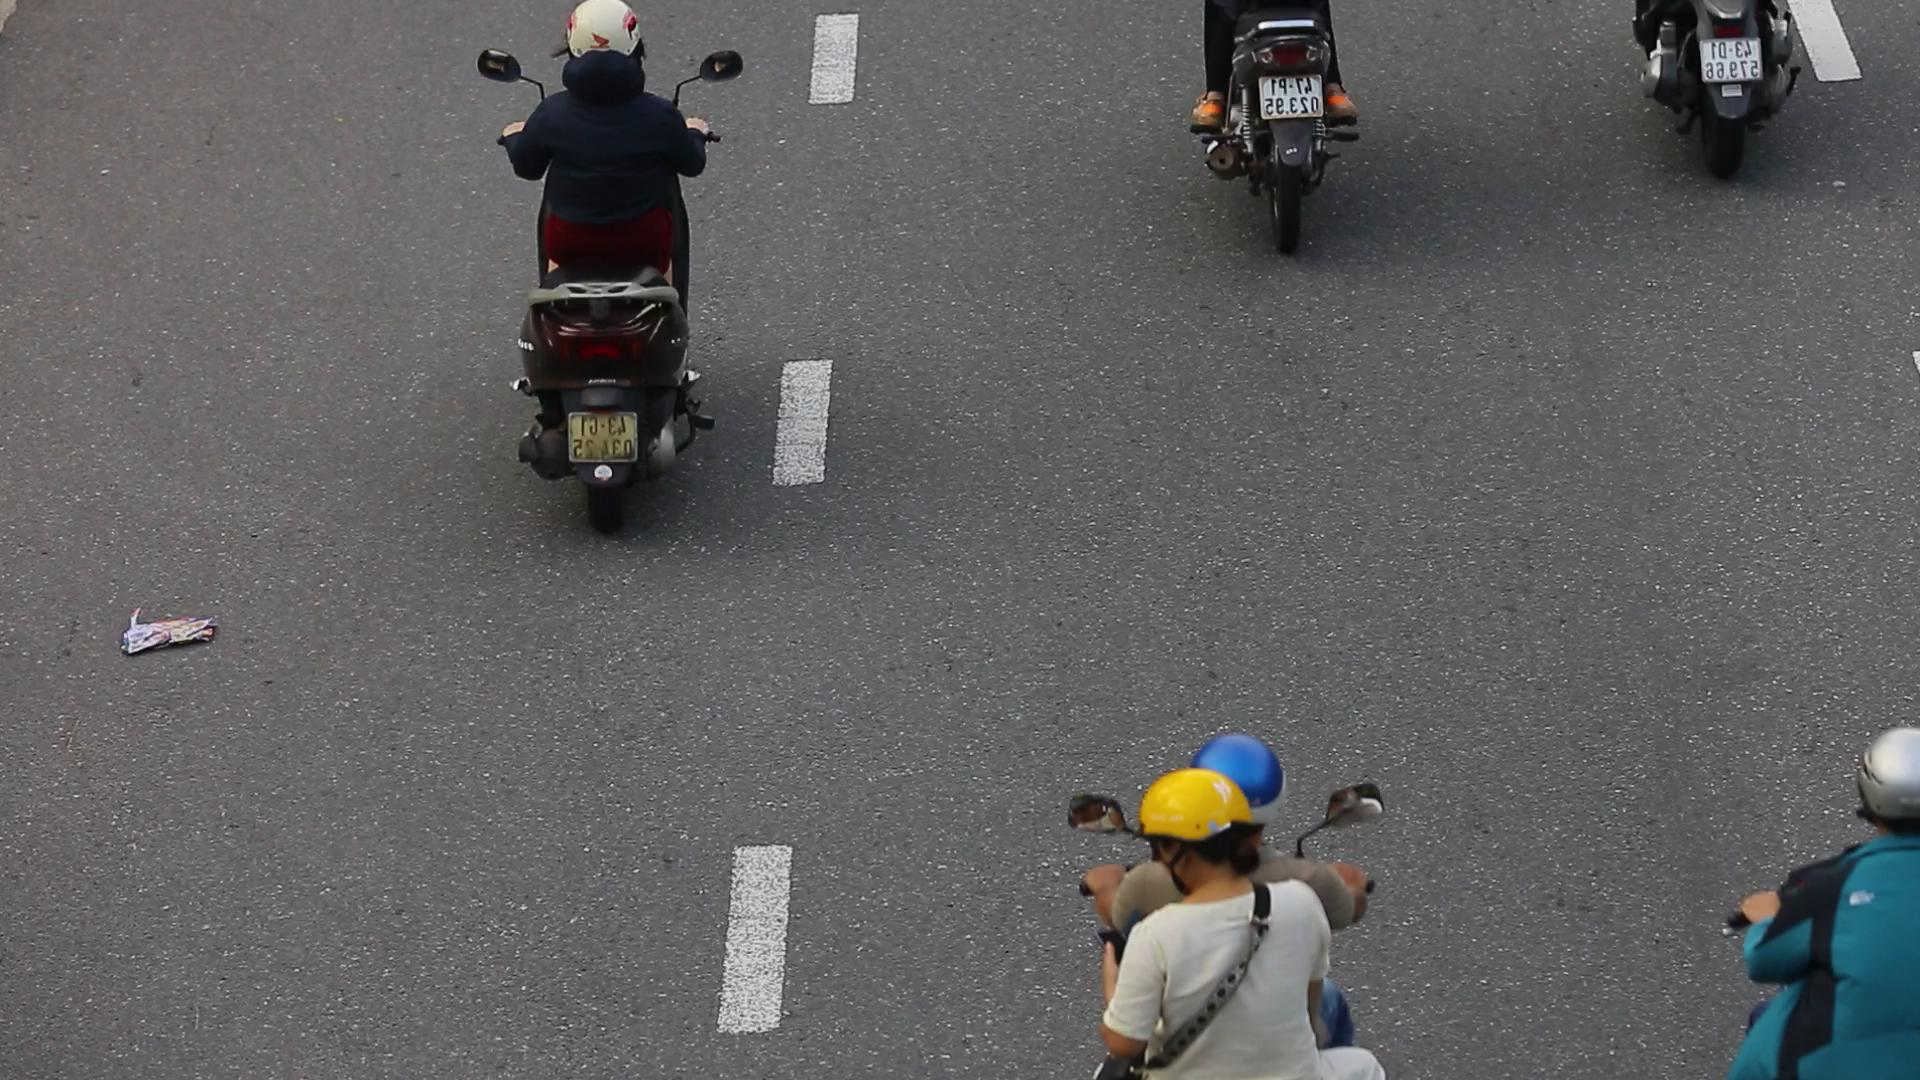motobike: (444, 0, 771, 572)
